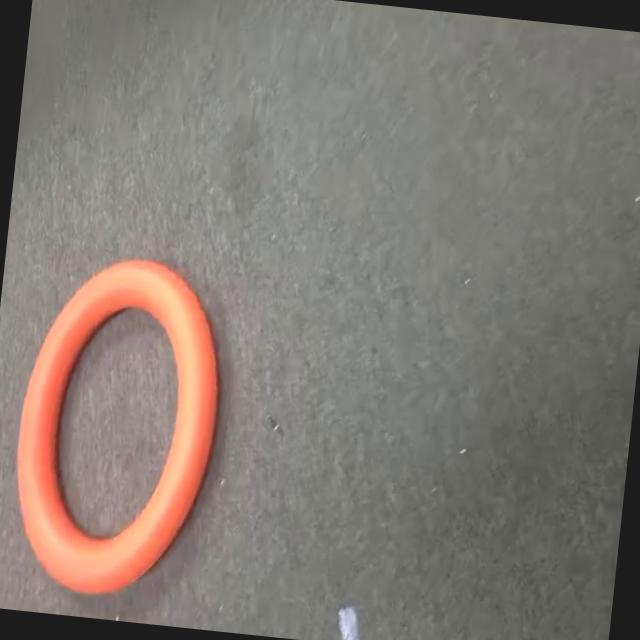note: (0, 234, 243, 615)
